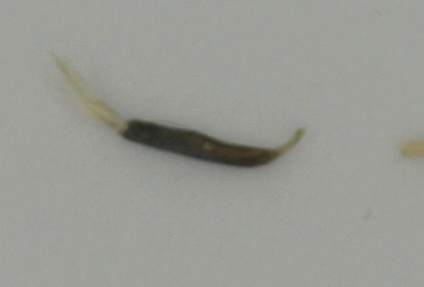เมล็ดงอกแตก: (46, 48, 305, 170)
